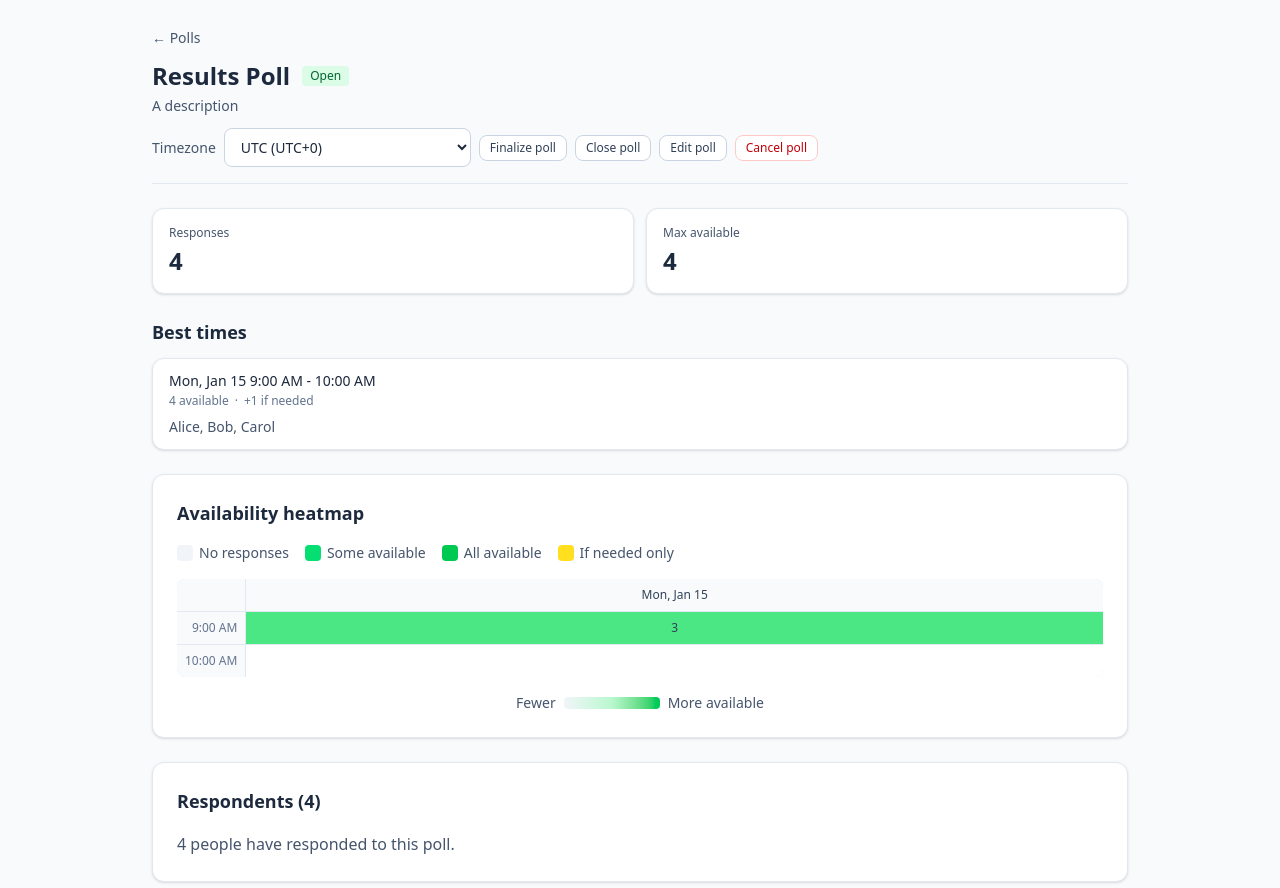
Test: PollResults - finalize modal › finalizes with the selected slot and shows the scheduled banner
This screenshot has width=1280, height=888.
expect the link "Edit poll" is shown: met, box [659,134,727,160]
What coordinates should you click on to do the following:
click the button "Finalize poll"
I would click on:
 (523, 148)
Its box is [479,134,567,160].
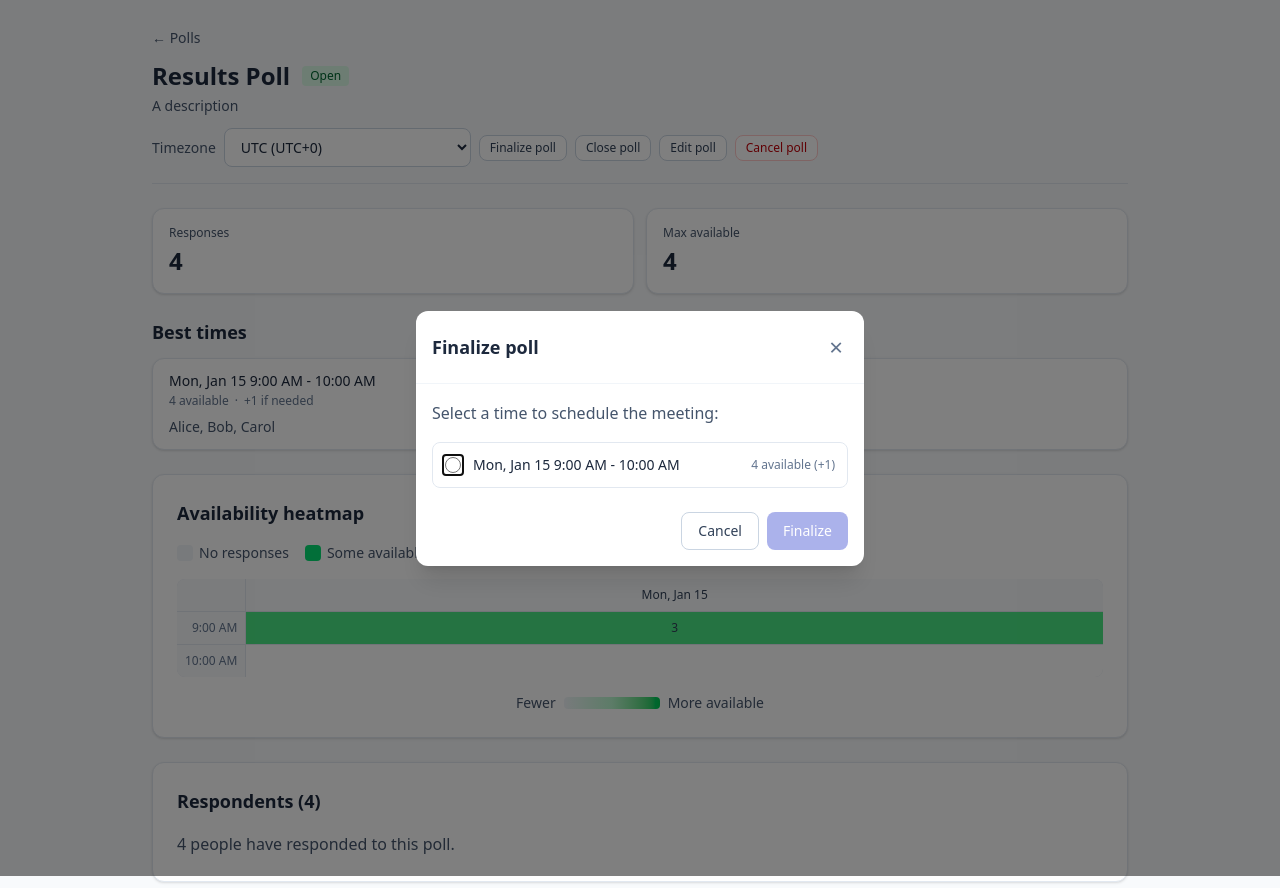
What coordinates should you click on to do the following:
click the radio button
I would click on:
 (453, 464)
Its box is [445,456,461,472].
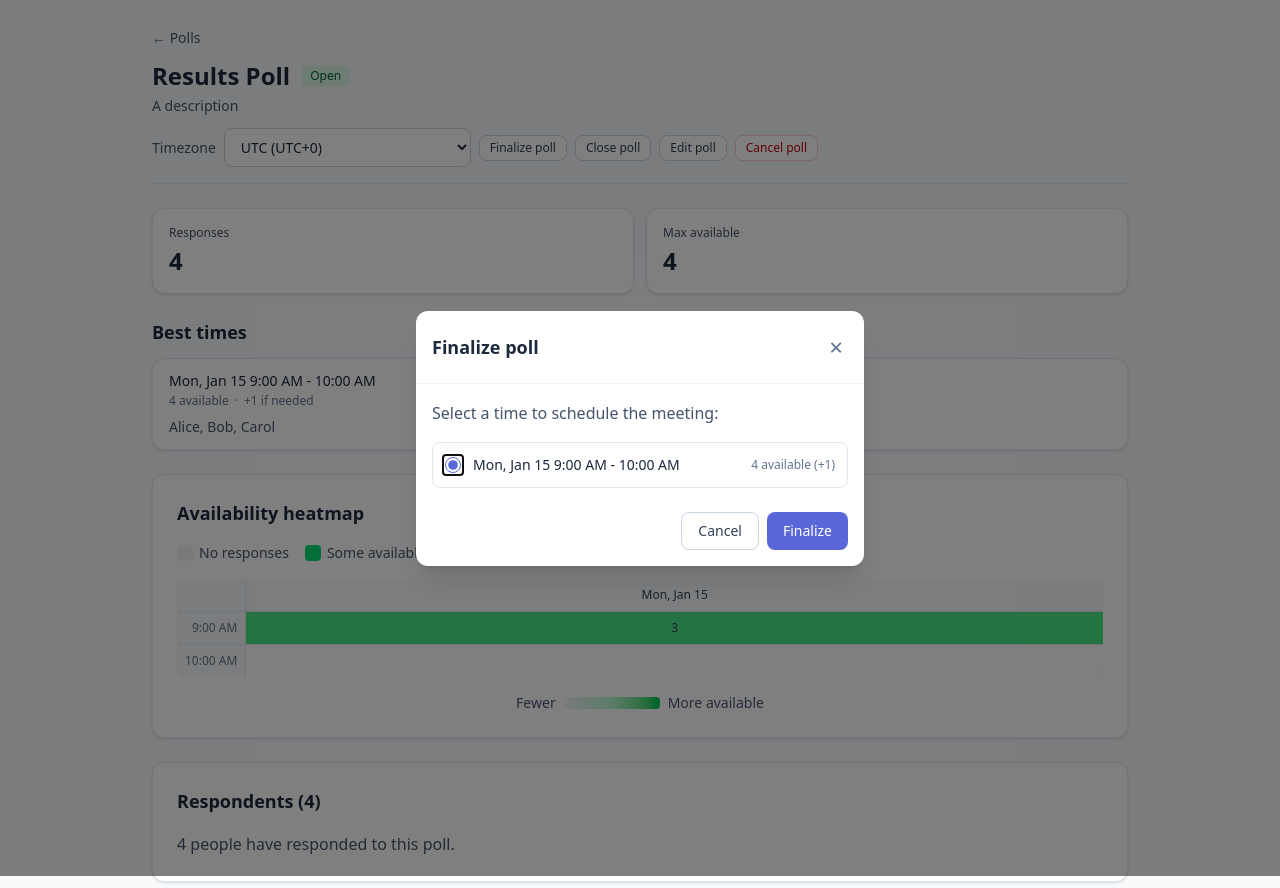
What coordinates should you click on to do the following:
click the button "Finalize"
I would click on:
 (807, 530)
Its box is [767,512,848,550].
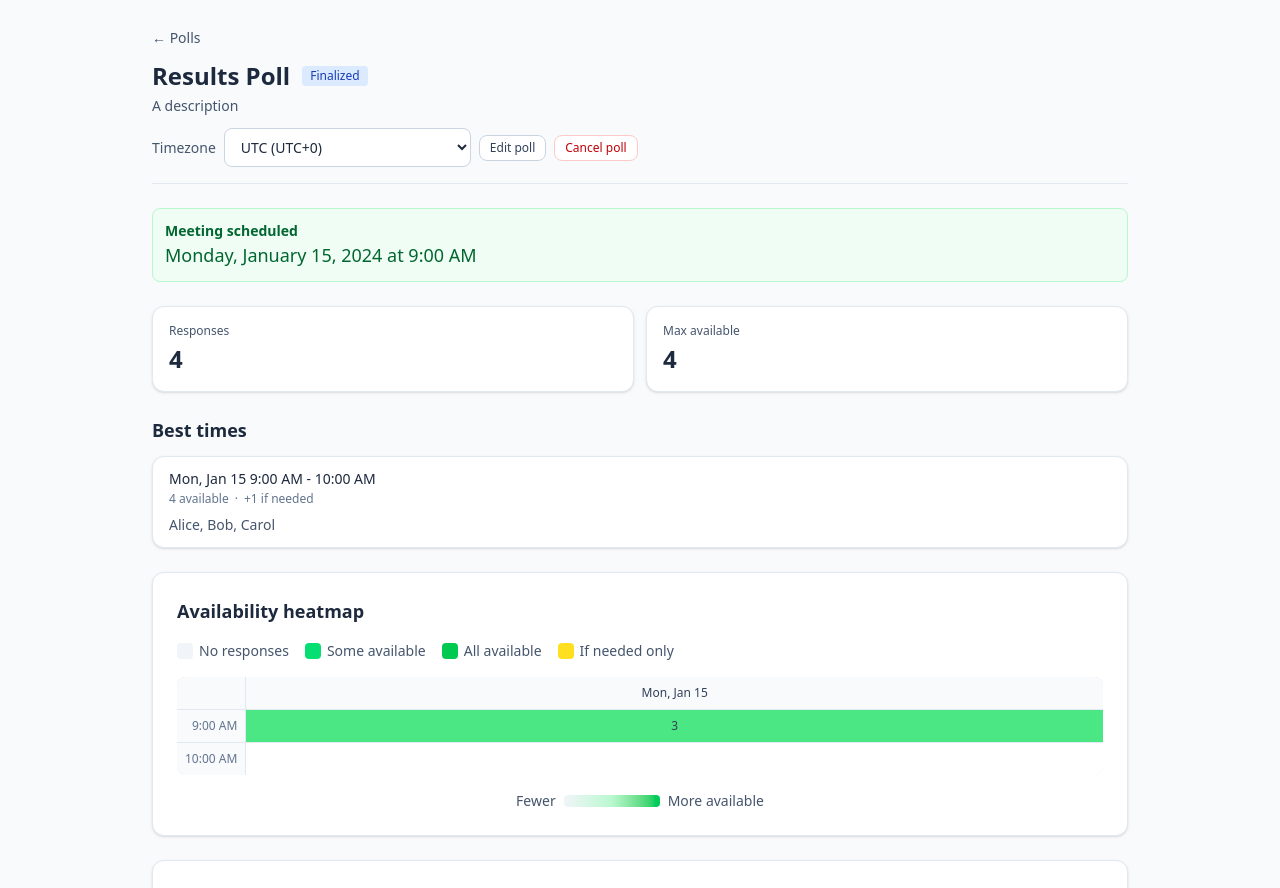
expect the heading "Meeting scheduled" is shown: met, box [165,221,298,240]
